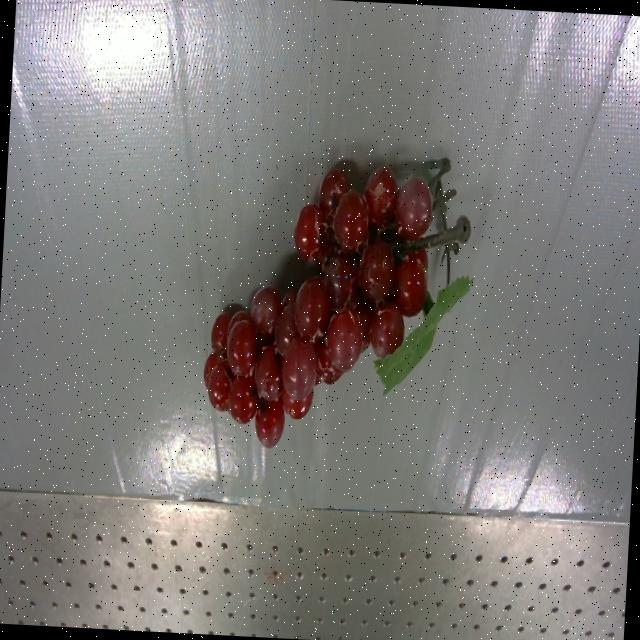grape: (203, 159, 472, 447)
